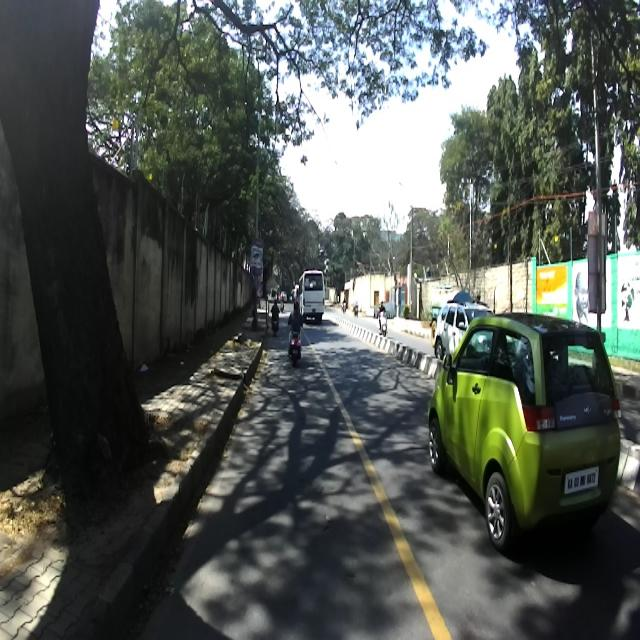bus: (296, 267, 326, 323)
car: (428, 308, 622, 546), (433, 296, 492, 358)
scooter: (286, 308, 302, 370)
